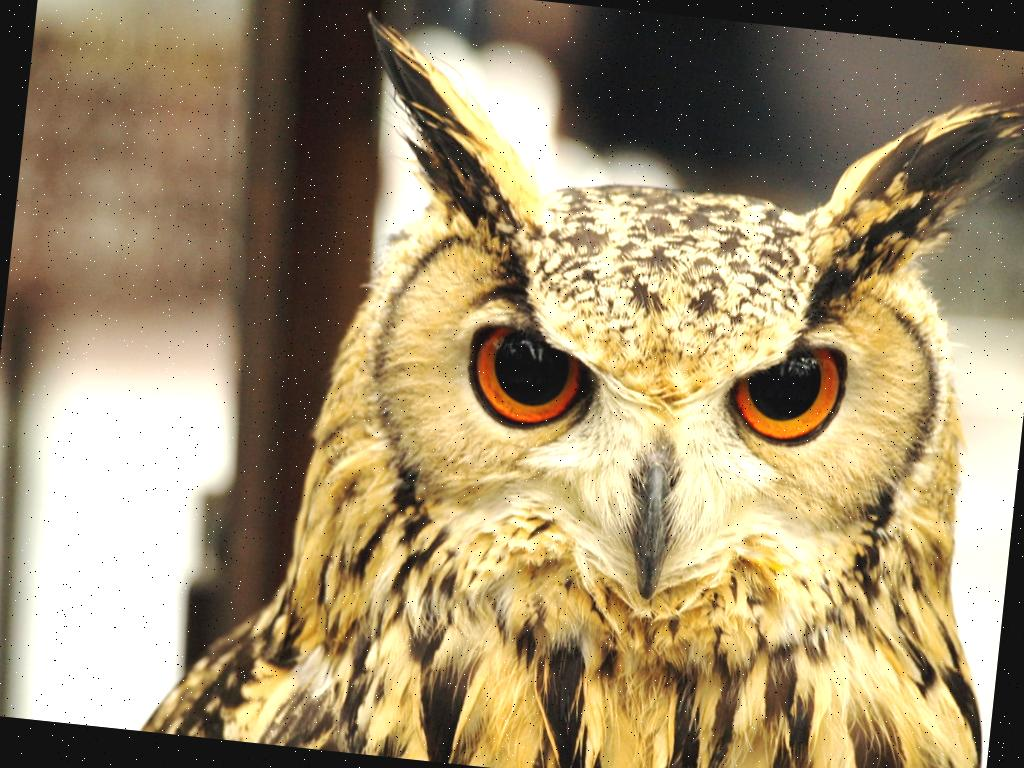Owl: (133, 0, 1024, 768)
